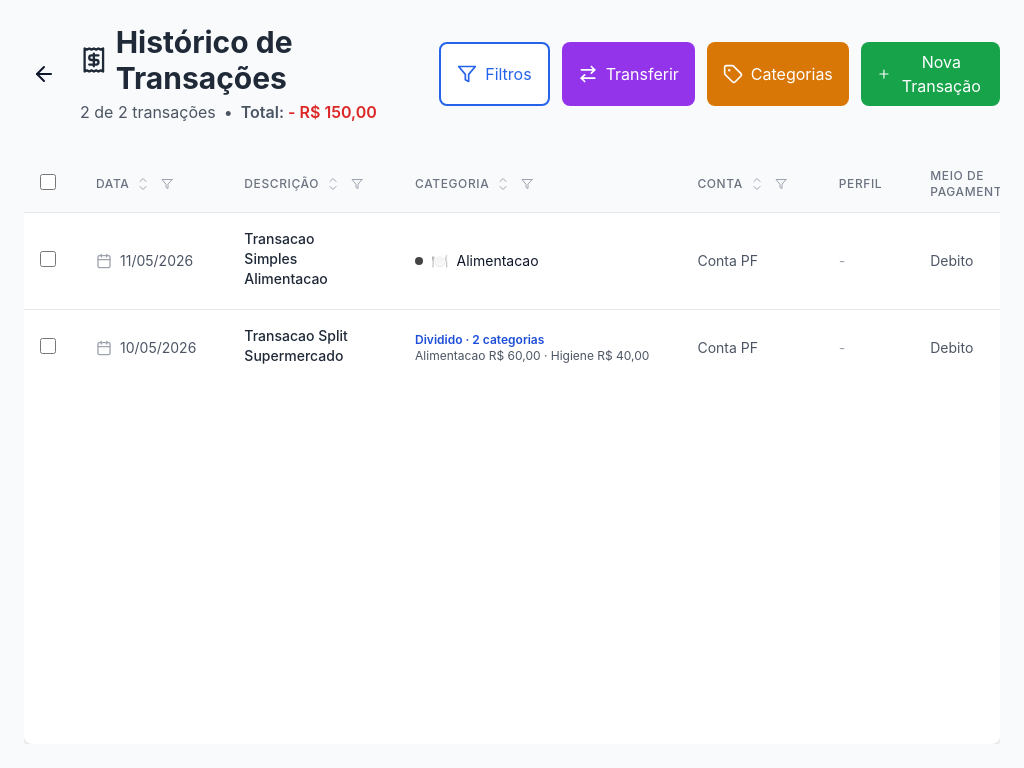
Test case: Transactions column filters › aplica filtro de categoria por split e limpar filtros remove filtro por coluna
Expected: the text "Transacao Split Supermercado" is shown, [244,327,348,364]
Expected: the text "Transacao Simples Alimentacao" is shown, [244,230,328,287]
Click the button named "Filtrar coluna Categoria" at (527, 184), box [517,174,537,194]
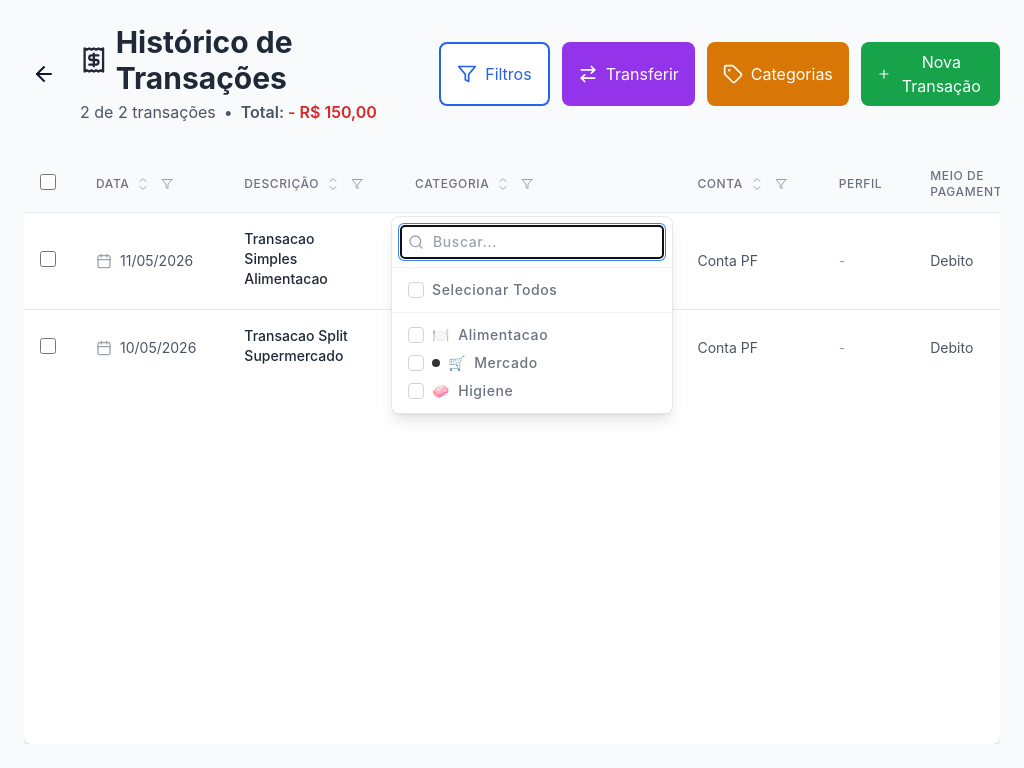
Click the button "🧼 Higiene" at (486, 390), box [400,377,664,405]
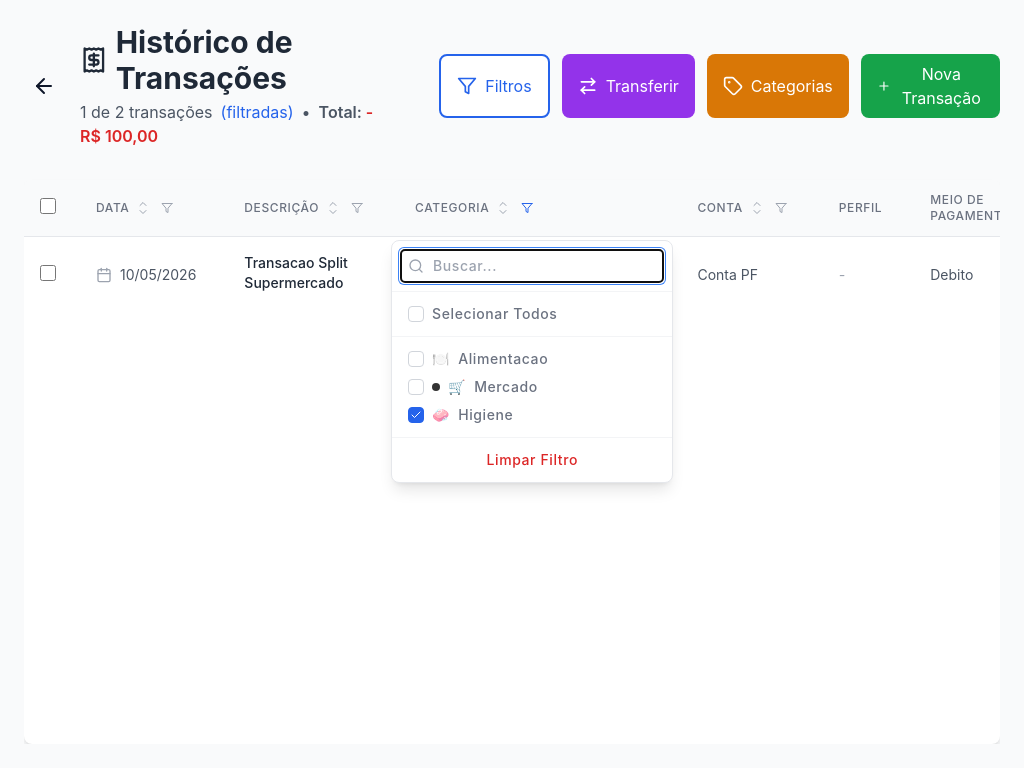
Expected: the text "Transacao Split Supermercado" is shown, [244,254,348,291]
Result: the text "Transacao Simples Alimentacao" is gone
Click the button with aria-label "Abrir filtros gerais" at (494, 86), box [439,54,550,118]
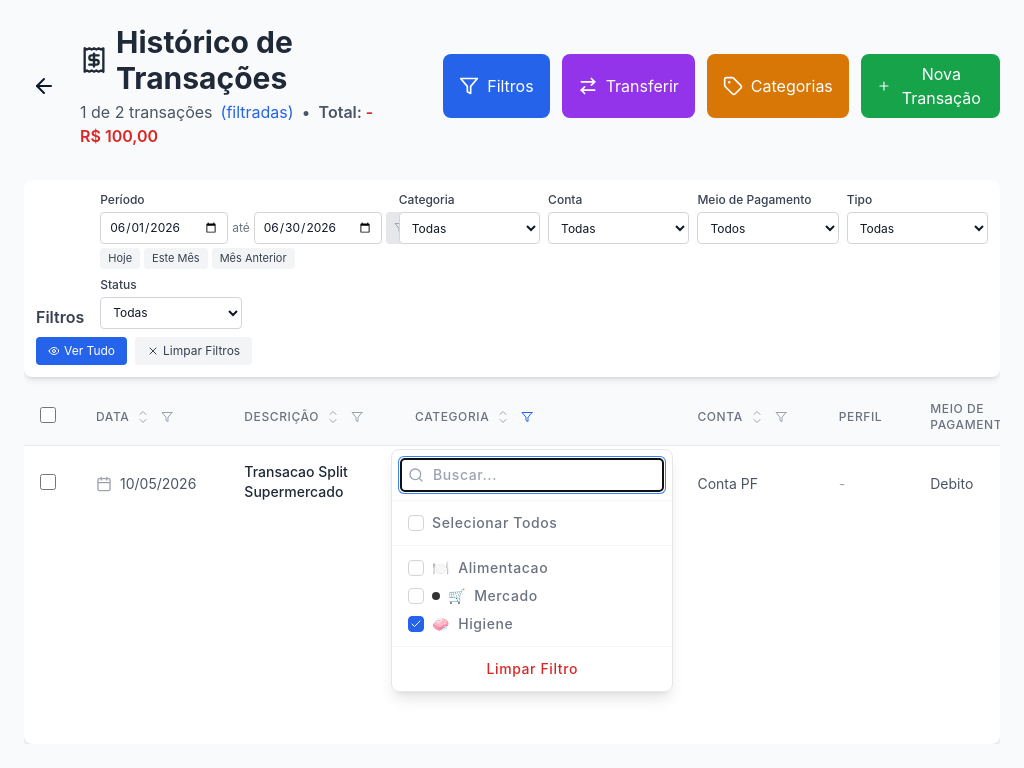
Click the button "Limpar Filtros" at (194, 350), box [135,336,252,364]
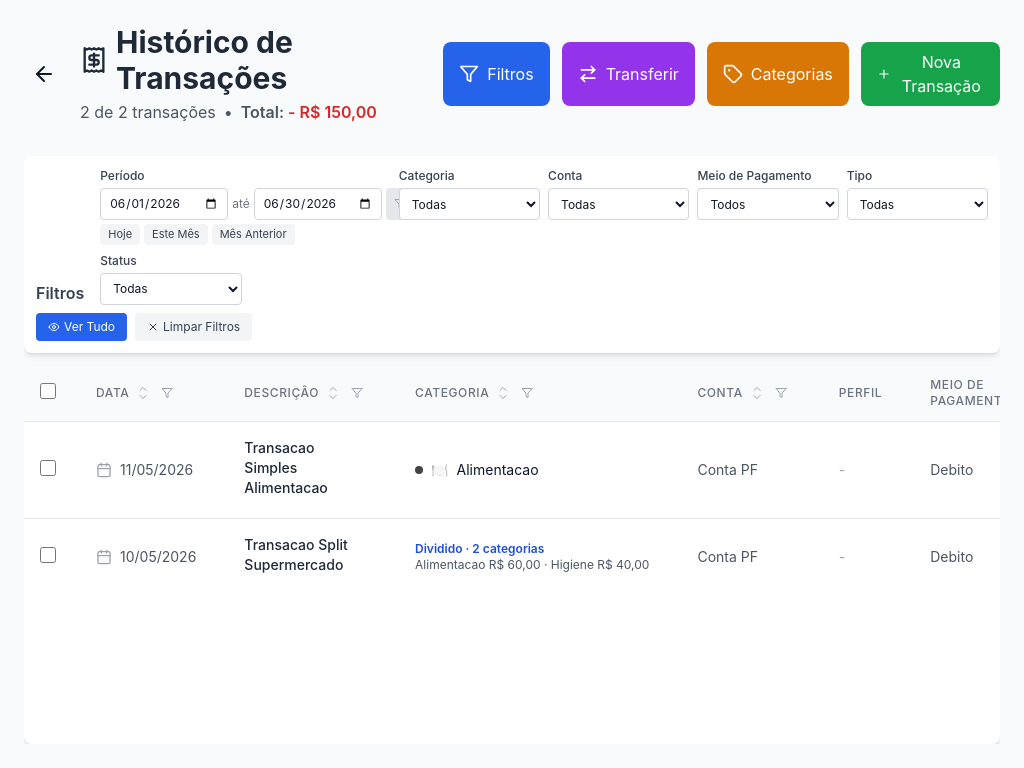
Expected: the text "Transacao Split Supermercado" is shown, [244,536,348,572]
Result: the text "Transacao Simples Alimentacao" is shown at [244,438,328,496]
